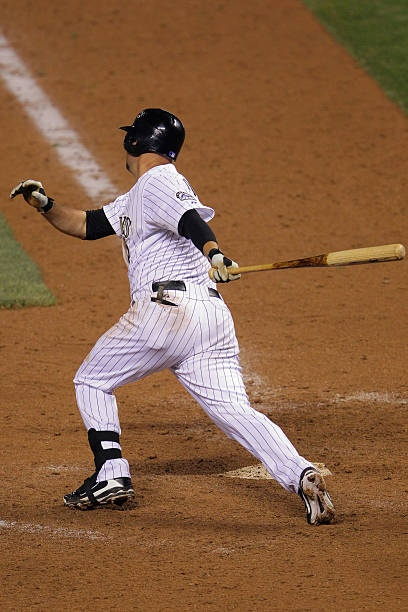bita: (212, 244, 404, 289)
